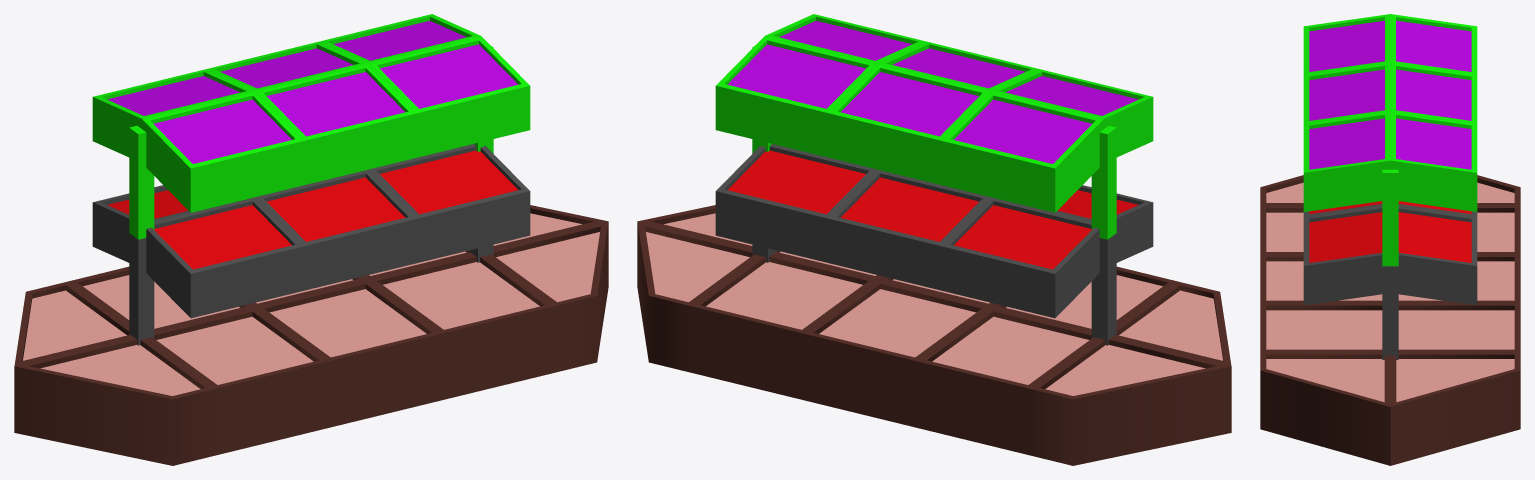
File: standFrutasNivel3_low.fbx
The picture shows the model from 3 angles, left to right: view 1: azimuth 30°, elevation 25°; view 2: azimuth 150°, elevation 25°; view 3: azimuth 270°, elevation 25°; orthographic projection. The views are drawn at different scales.
Parts seen in each view (by area): view 1: standNivel3_low, Frutas6Nivel3_low, Frutas4Nivel3_low, Frutas8Nivel3_low, Frutas18Nivel3_low, Frutas14Nivel3_low, Frutas20Nivel3_low, Frutas16Nivel3_low, Frutas22Nivel3_low, Frutas12Nivel3_low, Frutas10Nivel3_low, Frutas1Nivel3_low (+7 smaller); view 2: standNivel3_low, Frutas5Nivel3_low, Frutas3Nivel3_low, Frutas7Nivel3_low, Frutas17Nivel3_low, Frutas13Nivel3_low, Frutas19Nivel3_low, Frutas15Nivel3_low, Frutas21Nivel3_low, Frutas11Nivel3_low, Frutas9Nivel3_low, Frutas2Nivel3_low (+7 smaller); view 3: standNivel3_low, Frutas7Nivel3_low, Frutas8Nivel3_low, Frutas9Nivel3_low, Frutas10Nivel3_low, Frutas21Nivel3_low, Frutas22Nivel3_low, Frutas19Nivel3_low, Frutas20Nivel3_low, Frutas17Nivel3_low, Frutas18Nivel3_low, Frutas15Nivel3_low (+7 smaller).
Part boxes in pixels (x1=…): standNivel3_low: x1=14, y1=14, x2=608, y2=465; Frutas6Nivel3_low: x1=269, y1=289, x2=426, y2=357; Frutas4Nivel3_low: x1=156, y1=316, x2=313, y2=384; Frutas8Nivel3_low: x1=383, y1=262, x2=539, y2=329; Frutas18Nivel3_low: x1=153, y1=99, x2=291, y2=163; Frutas14Nivel3_low: x1=267, y1=177, x2=405, y2=241; Frutas20Nivel3_low: x1=266, y1=72, x2=404, y2=136; Frutas16Nivel3_low: x1=380, y1=150, x2=518, y2=214; Frutas22Nivel3_low: x1=380, y1=44, x2=518, y2=108; Frutas12Nivel3_low: x1=154, y1=205, x2=291, y2=269; Frutas10Nivel3_low: x1=496, y1=232, x2=599, y2=302; Frutas1Nivel3_low: x1=23, y1=290, x2=126, y2=360; standNivel3_low: x1=637, y1=14, x2=1231, y2=465; Frutas5Nivel3_low: x1=819, y1=289, x2=976, y2=357; Frutas3Nivel3_low: x1=932, y1=316, x2=1089, y2=384; Frutas7Nivel3_low: x1=706, y1=262, x2=862, y2=329; Frutas17Nivel3_low: x1=954, y1=99, x2=1092, y2=163; Frutas13Nivel3_low: x1=840, y1=177, x2=978, y2=241; Frutas19Nivel3_low: x1=841, y1=72, x2=979, y2=136; Frutas15Nivel3_low: x1=727, y1=150, x2=865, y2=214; Frutas21Nivel3_low: x1=727, y1=44, x2=865, y2=108; Frutas11Nivel3_low: x1=954, y1=205, x2=1091, y2=269; Frutas9Nivel3_low: x1=646, y1=232, x2=749, y2=302; Frutas2Nivel3_low: x1=1119, y1=290, x2=1222, y2=360; standNivel3_low: x1=1260, y1=14, x2=1520, y2=465; Frutas7Nivel3_low: x1=1398, y1=310, x2=1514, y2=349; Frutas8Nivel3_low: x1=1266, y1=310, x2=1382, y2=349; Frutas9Nivel3_low: x1=1396, y1=359, x2=1514, y2=402; Frutas10Nivel3_low: x1=1266, y1=359, x2=1384, y2=402; Frutas21Nivel3_low: x1=1396, y1=118, x2=1471, y2=169; Frutas22Nivel3_low: x1=1309, y1=118, x2=1384, y2=169; Frutas19Nivel3_low: x1=1396, y1=69, x2=1471, y2=120; Frutas20Nivel3_low: x1=1309, y1=69, x2=1384, y2=120; Frutas17Nivel3_low: x1=1396, y1=20, x2=1471, y2=71; Frutas18Nivel3_low: x1=1309, y1=20, x2=1384, y2=71; Frutas15Nivel3_low: x1=1398, y1=212, x2=1471, y2=262.
Size of the model in its own units: 700 by 319 by 300.
